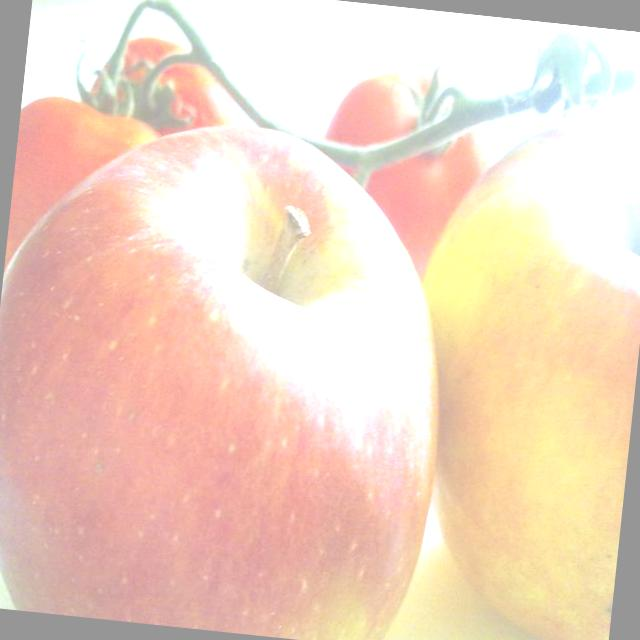Apple: (0, 100, 469, 640), (384, 101, 640, 640)
